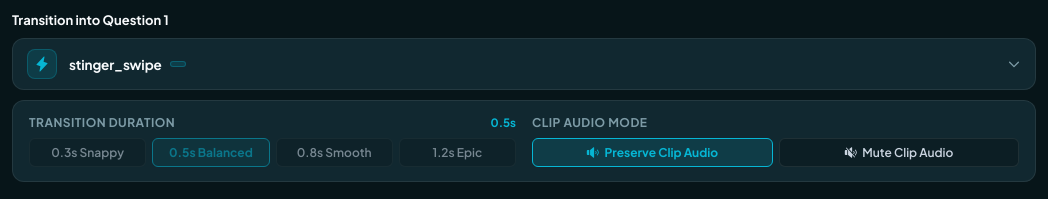
Test case: TransitionTypeSelector › handles keyboard navigation (Escape to close, Enter to select)
Click the dropdown named "Transition into Question 1" at point(115, 64), box x1=12 y1=38 x2=1036 y2=90
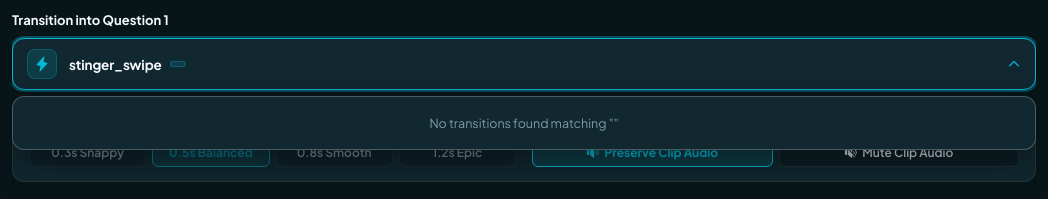
Expected: the dropdown named "Transition into Question 1" is expanded
// Press Escape to close
Press Escape in the dropdown named "Transition into Question 1", box x1=12 y1=38 x2=1036 y2=90
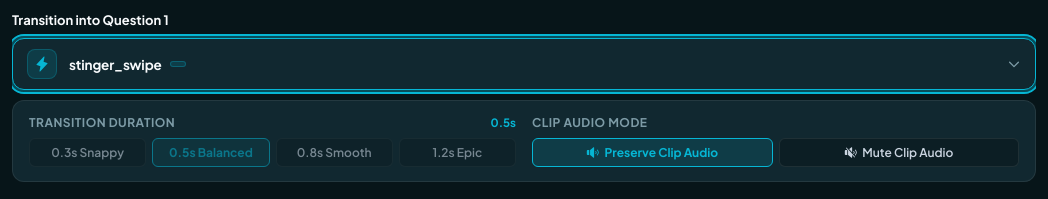
Expected: the dropdown named "Transition into Question 1" is collapsed, x1=12 y1=38 x2=1036 y2=90
